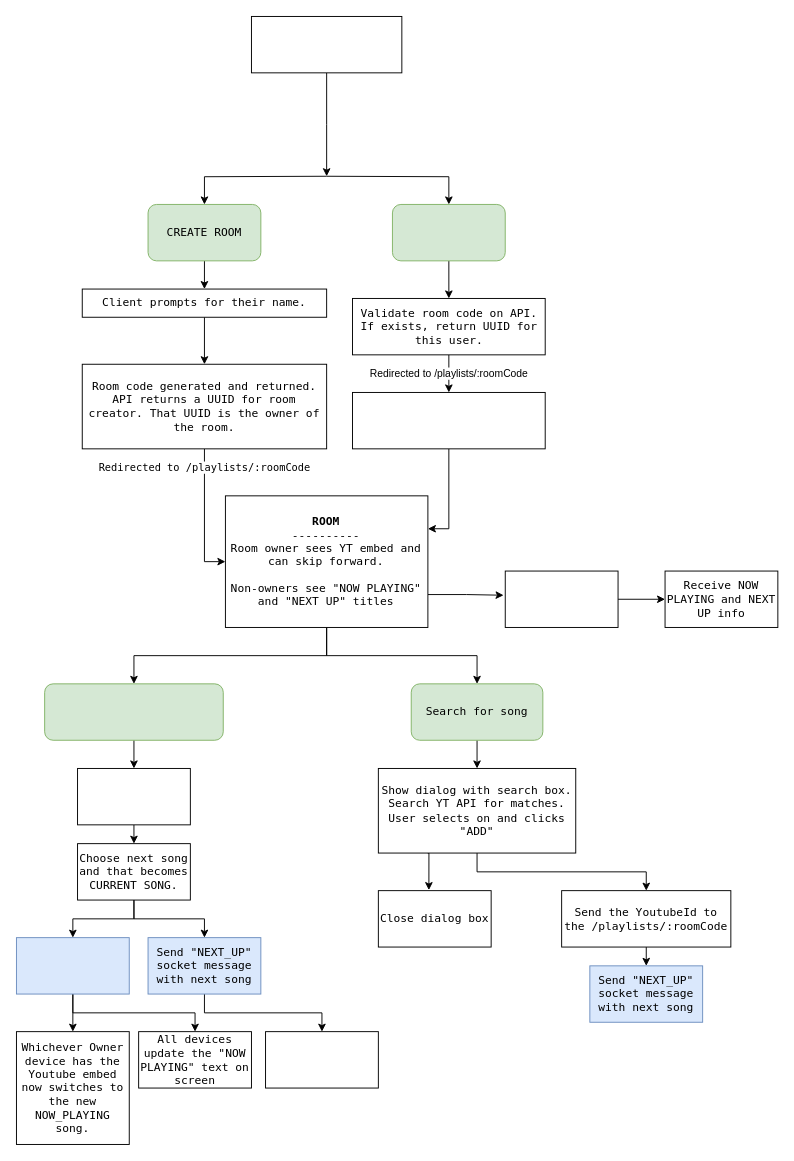
The diagram is 794 pixels wide and 1161 high, and some of its shapes have lost their labels. Here are the shapes that lost their labels. From the top down, the box of each, then its label:
(251, 16, 402, 73): User visits site
(392, 204, 505, 261): JOIN ROOM
(352, 392, 545, 449): Client prompts user for their name. All subsq API requests send UUID+name.
(504, 570, 618, 627): Join socket on api
(44, 683, 223, 740): Skip Song (Owner Only)
(77, 768, 190, 825): Send API request to go to the next song.
(16, 937, 129, 994): Send "NOW_PLAYING" socket message with new song
(265, 1031, 378, 1088): All devices update the "NEXT UP" text on screen
